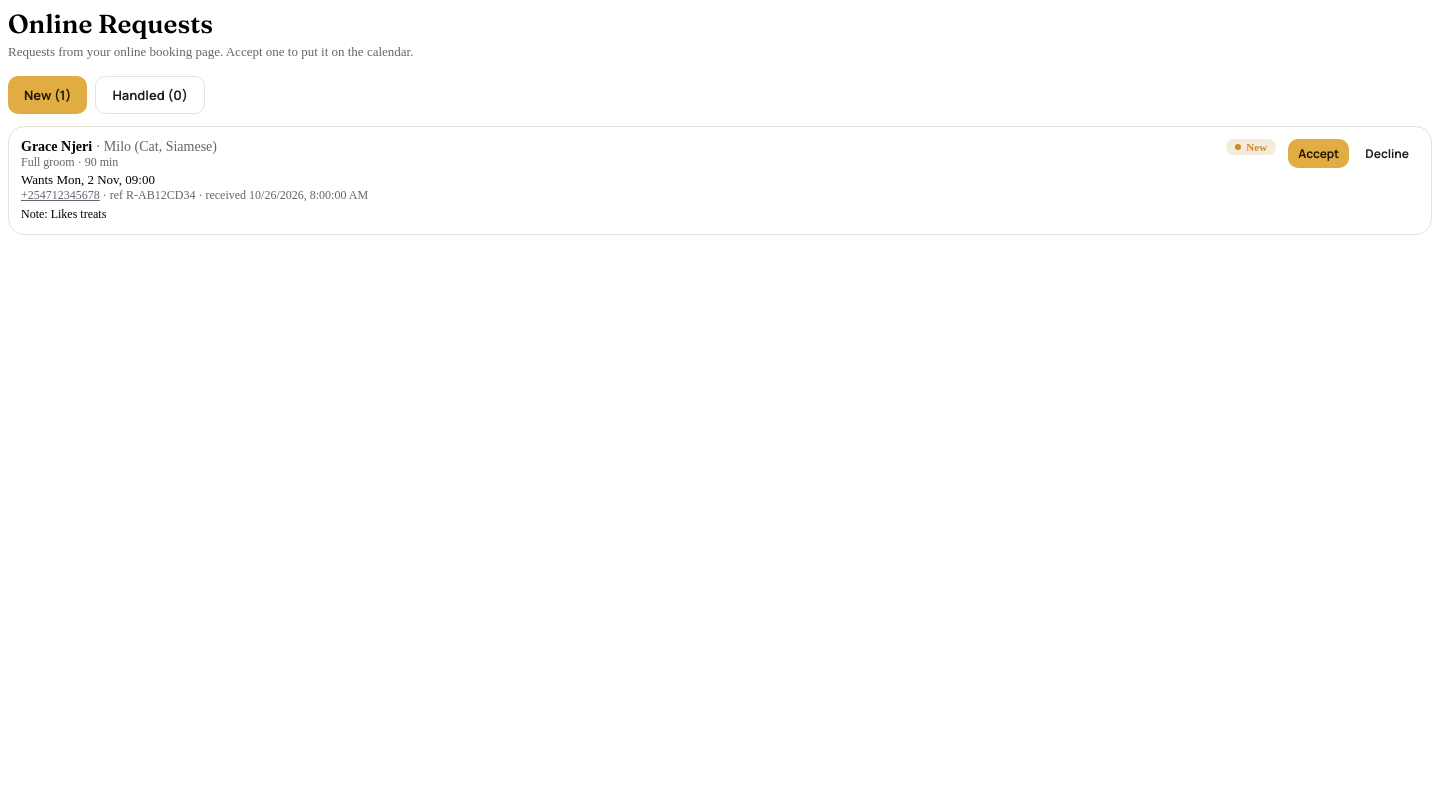
Test: BookingRequestsPage › accepts with the requested time and an optional groomer (only active staff offered)
Click the button with aria-label "Accept request from Grace Njeri" at (1319, 154), box [1288, 139, 1349, 168]
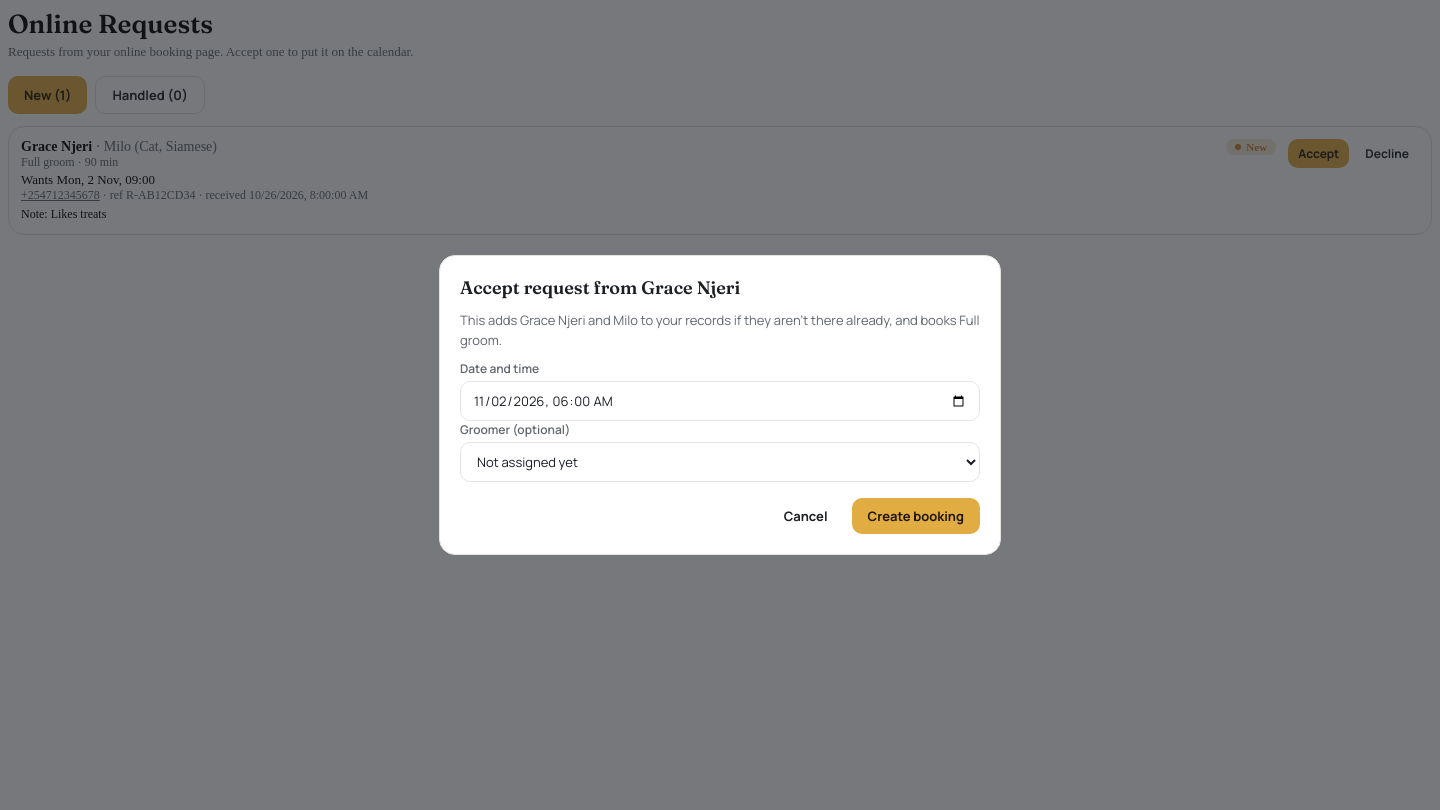
Select "Wanjiku" in the dropdown labelled "Groomer (optional)" at (720, 462), box [460, 442, 980, 482]
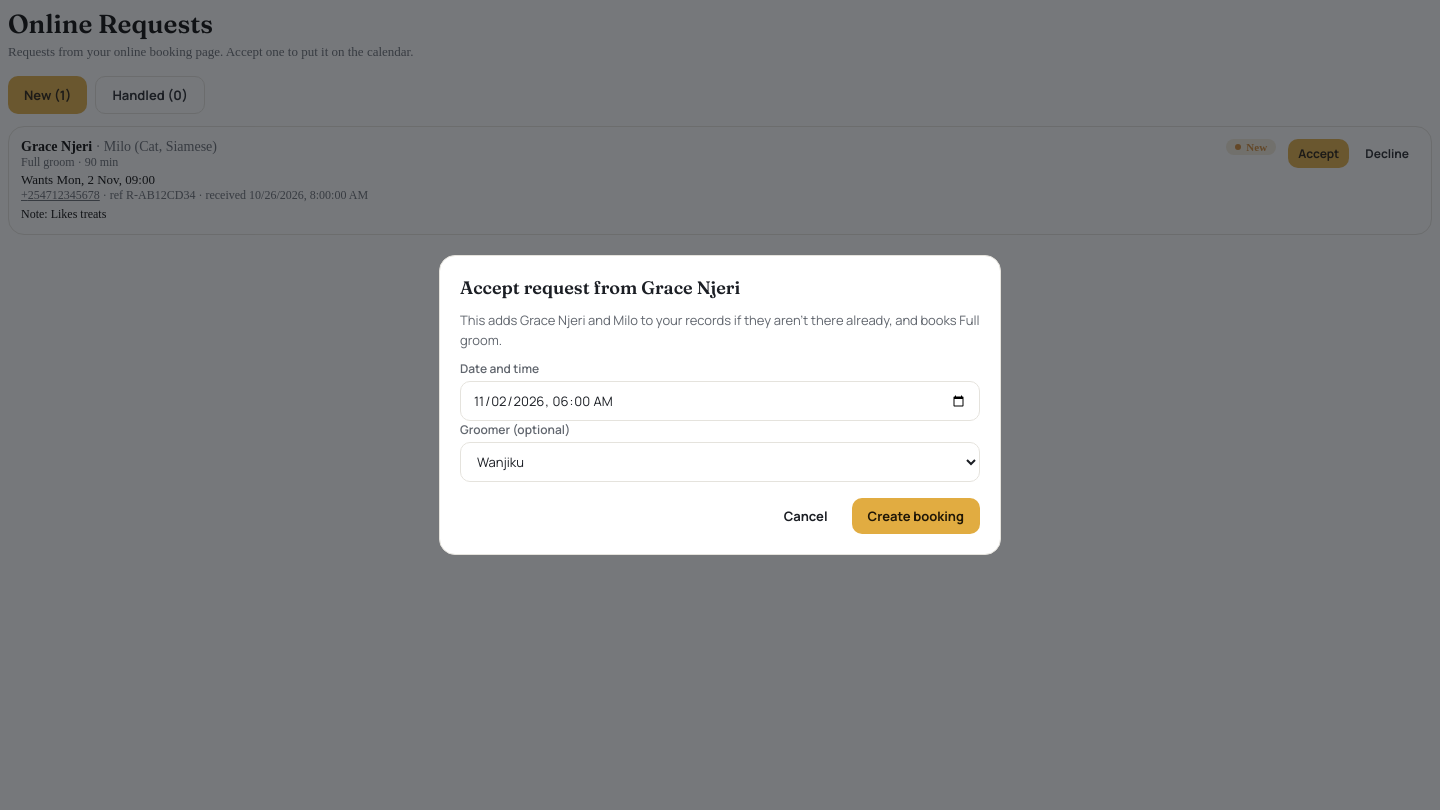
Click the button "Create booking" at (916, 516), box [852, 498, 980, 534]
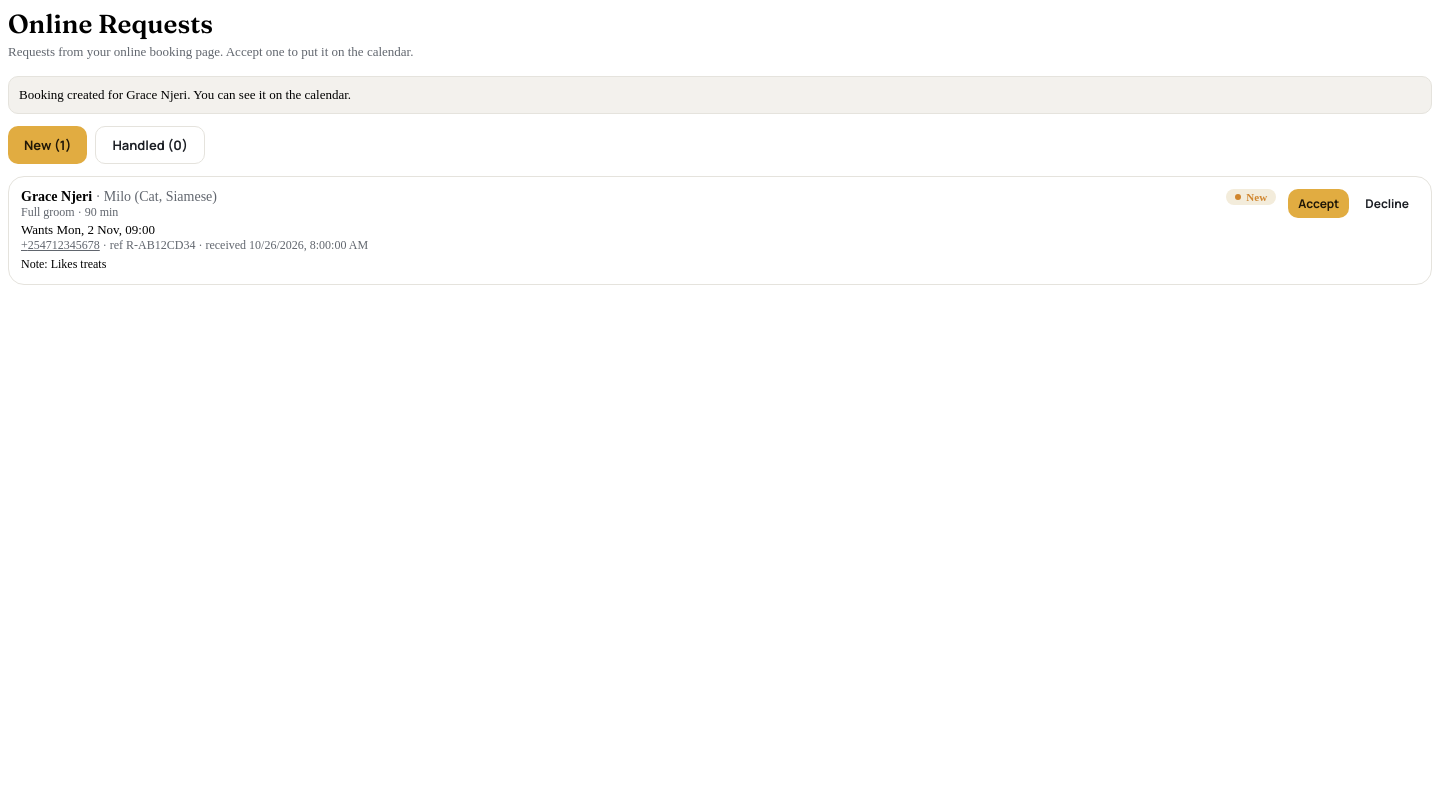
Check: the text "Booking created for Grace Njeri. You can see it on the calendar." is shown, box [8, 76, 1432, 114]
